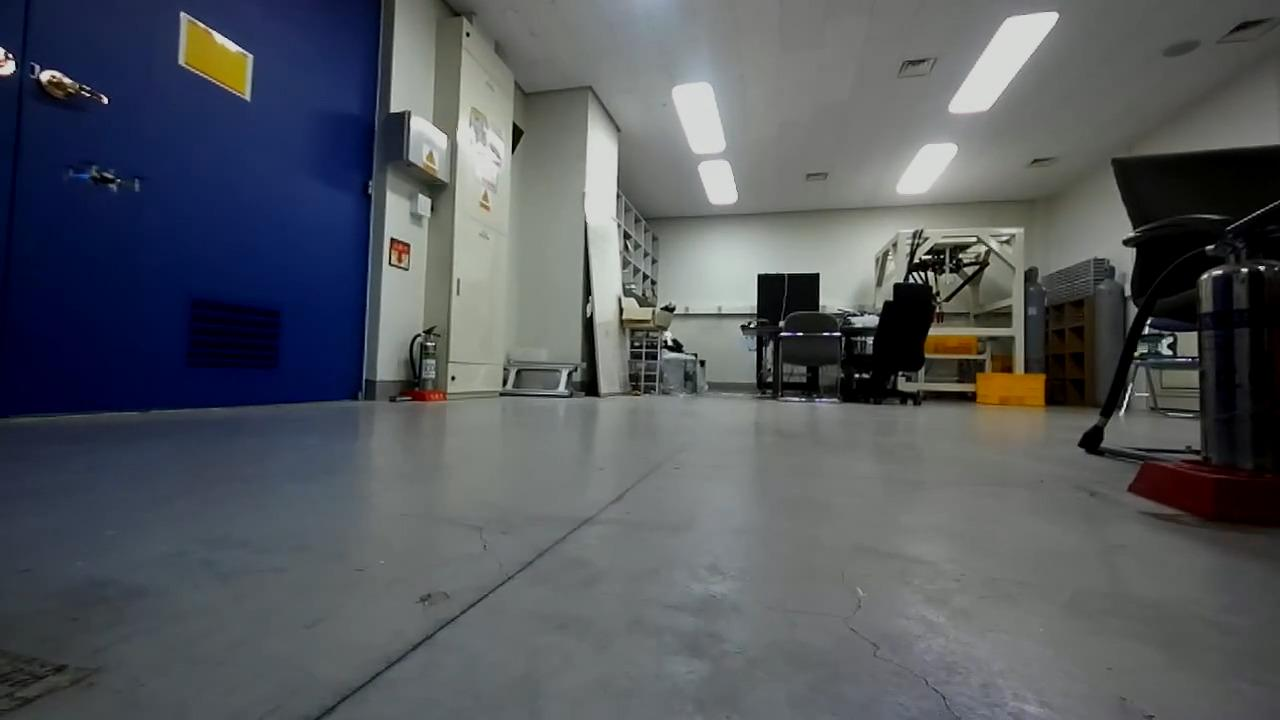crazyflie: (60, 159, 147, 198)
